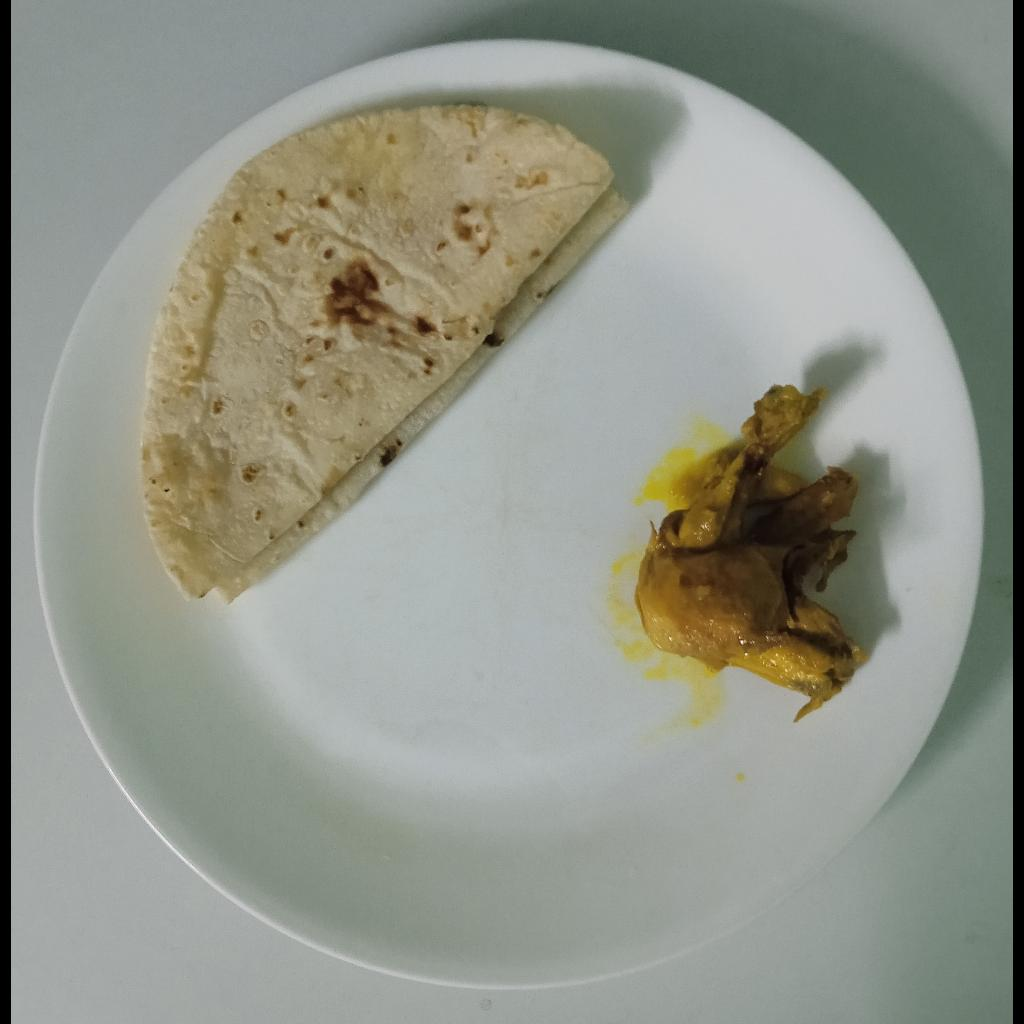chicken: (636, 387, 866, 725)
ruti: (143, 106, 631, 608)
